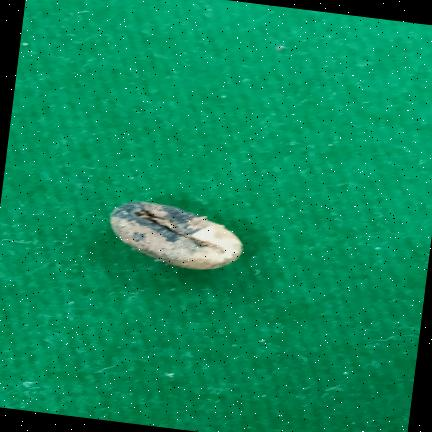partial-black: (110, 201, 242, 269)
